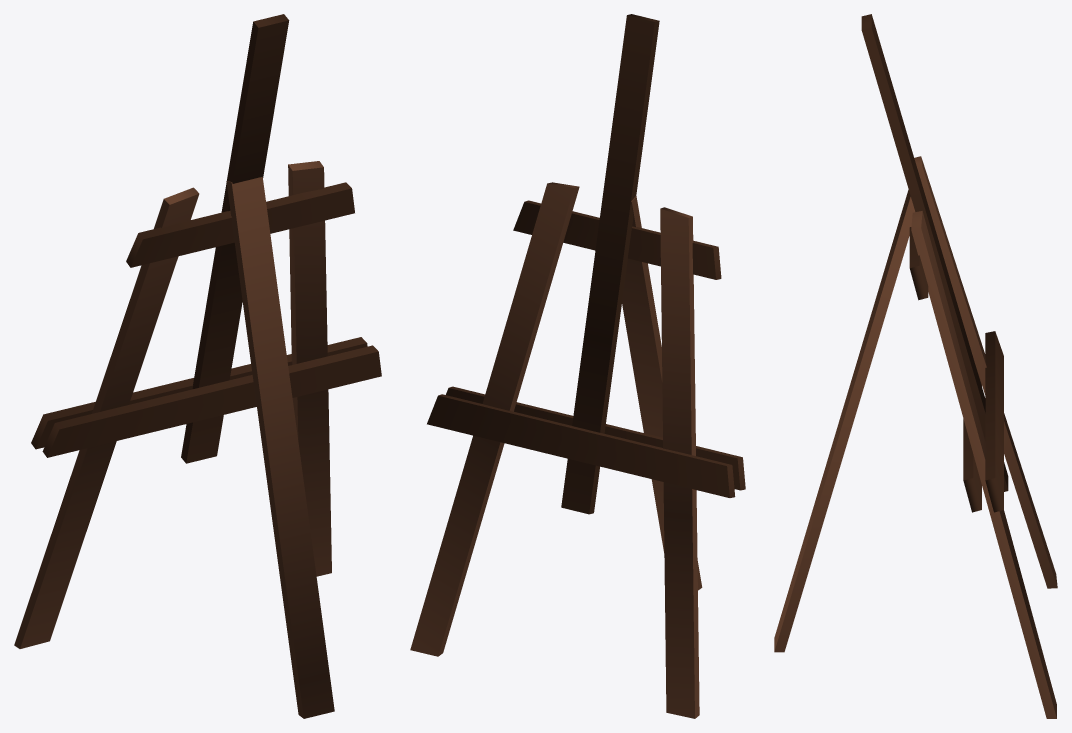
The model's file is Easel.obj.
3 renders of one model, left to right at view 1: azimuth 30°, elevation 25°; view 2: azimuth 150°, elevation 25°; view 3: azimuth 270°, elevation 25°, orthographic. The views are drawn at different scales.
Visible parts, largest first — view 1: Easel; view 2: Easel; view 3: Easel.
Part boxes in pixels (x1,y1,x2,y2): Easel: (14,14,381,718); Easel: (410,14,745,718); Easel: (774,14,1057,718).
Size of the model in its own units: 1.39 by 2.62 by 1.08.
